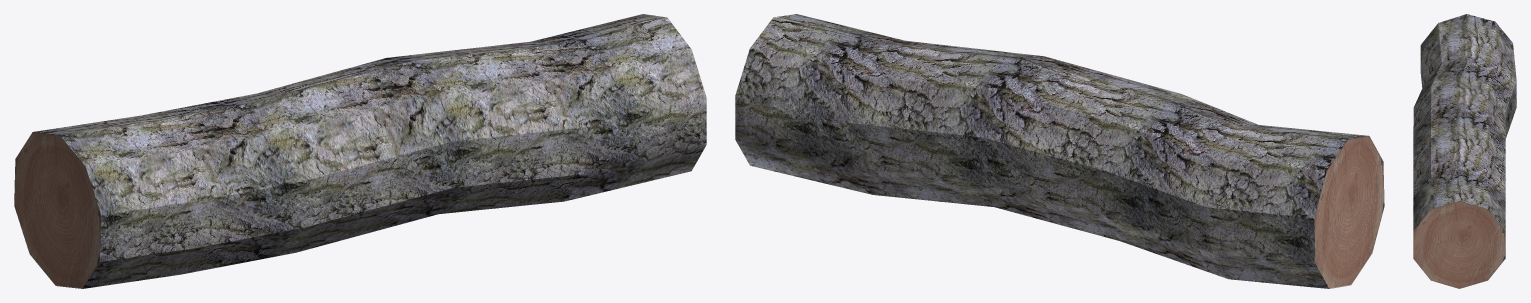
File: Log Turbo Poly.FBX
3 views of the same model, side by side, from view 1: azimuth 30°, elevation 25°; view 2: azimuth 150°, elevation 25°; view 3: azimuth 270°, elevation 25° (orthographic). The views are drawn at different scales.
Visible parts, largest first — view 1: Cylinder001; view 2: Cylinder001; view 3: Cylinder001.
Boxes of the visible parts, x1,y1,x2,y2 form: Cylinder001: (14,14,706,288); Cylinder001: (735,14,1384,288); Cylinder001: (1413,14,1516,288).
Bounding box in the file's own units: 1016 × 279 × 256.
1 material, 1 textured.
